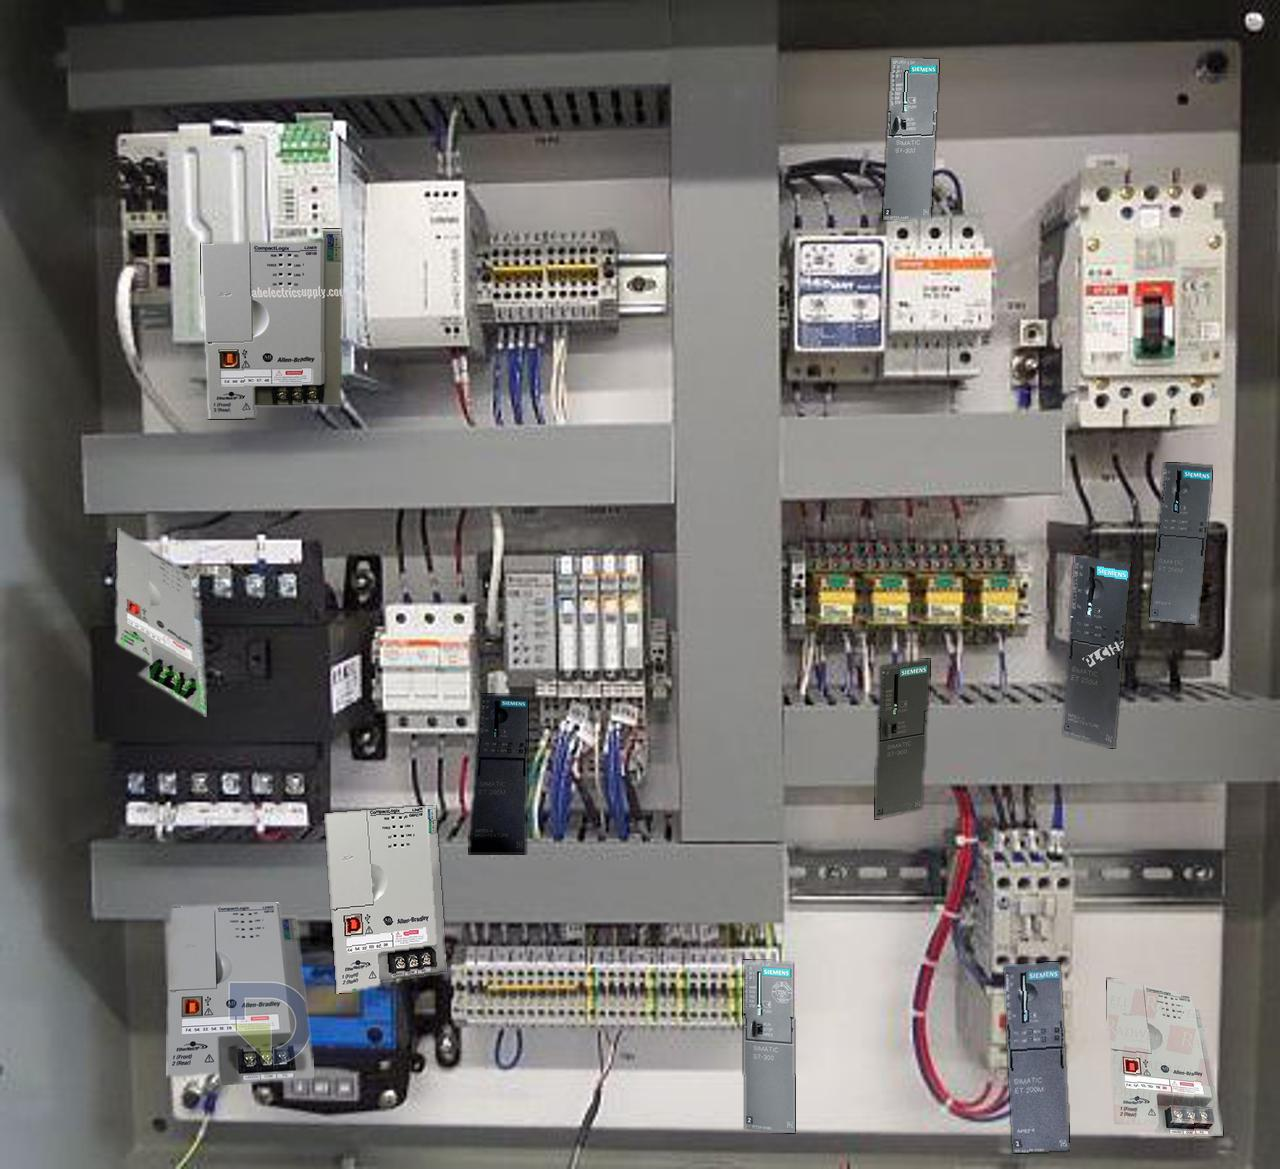AllenBradley: (166, 902, 313, 1084), (201, 229, 341, 418), (324, 806, 445, 993), (1107, 979, 1222, 1136), (116, 528, 206, 716)
Siemens: (743, 960, 795, 1132), (883, 58, 938, 219), (875, 659, 929, 818)
